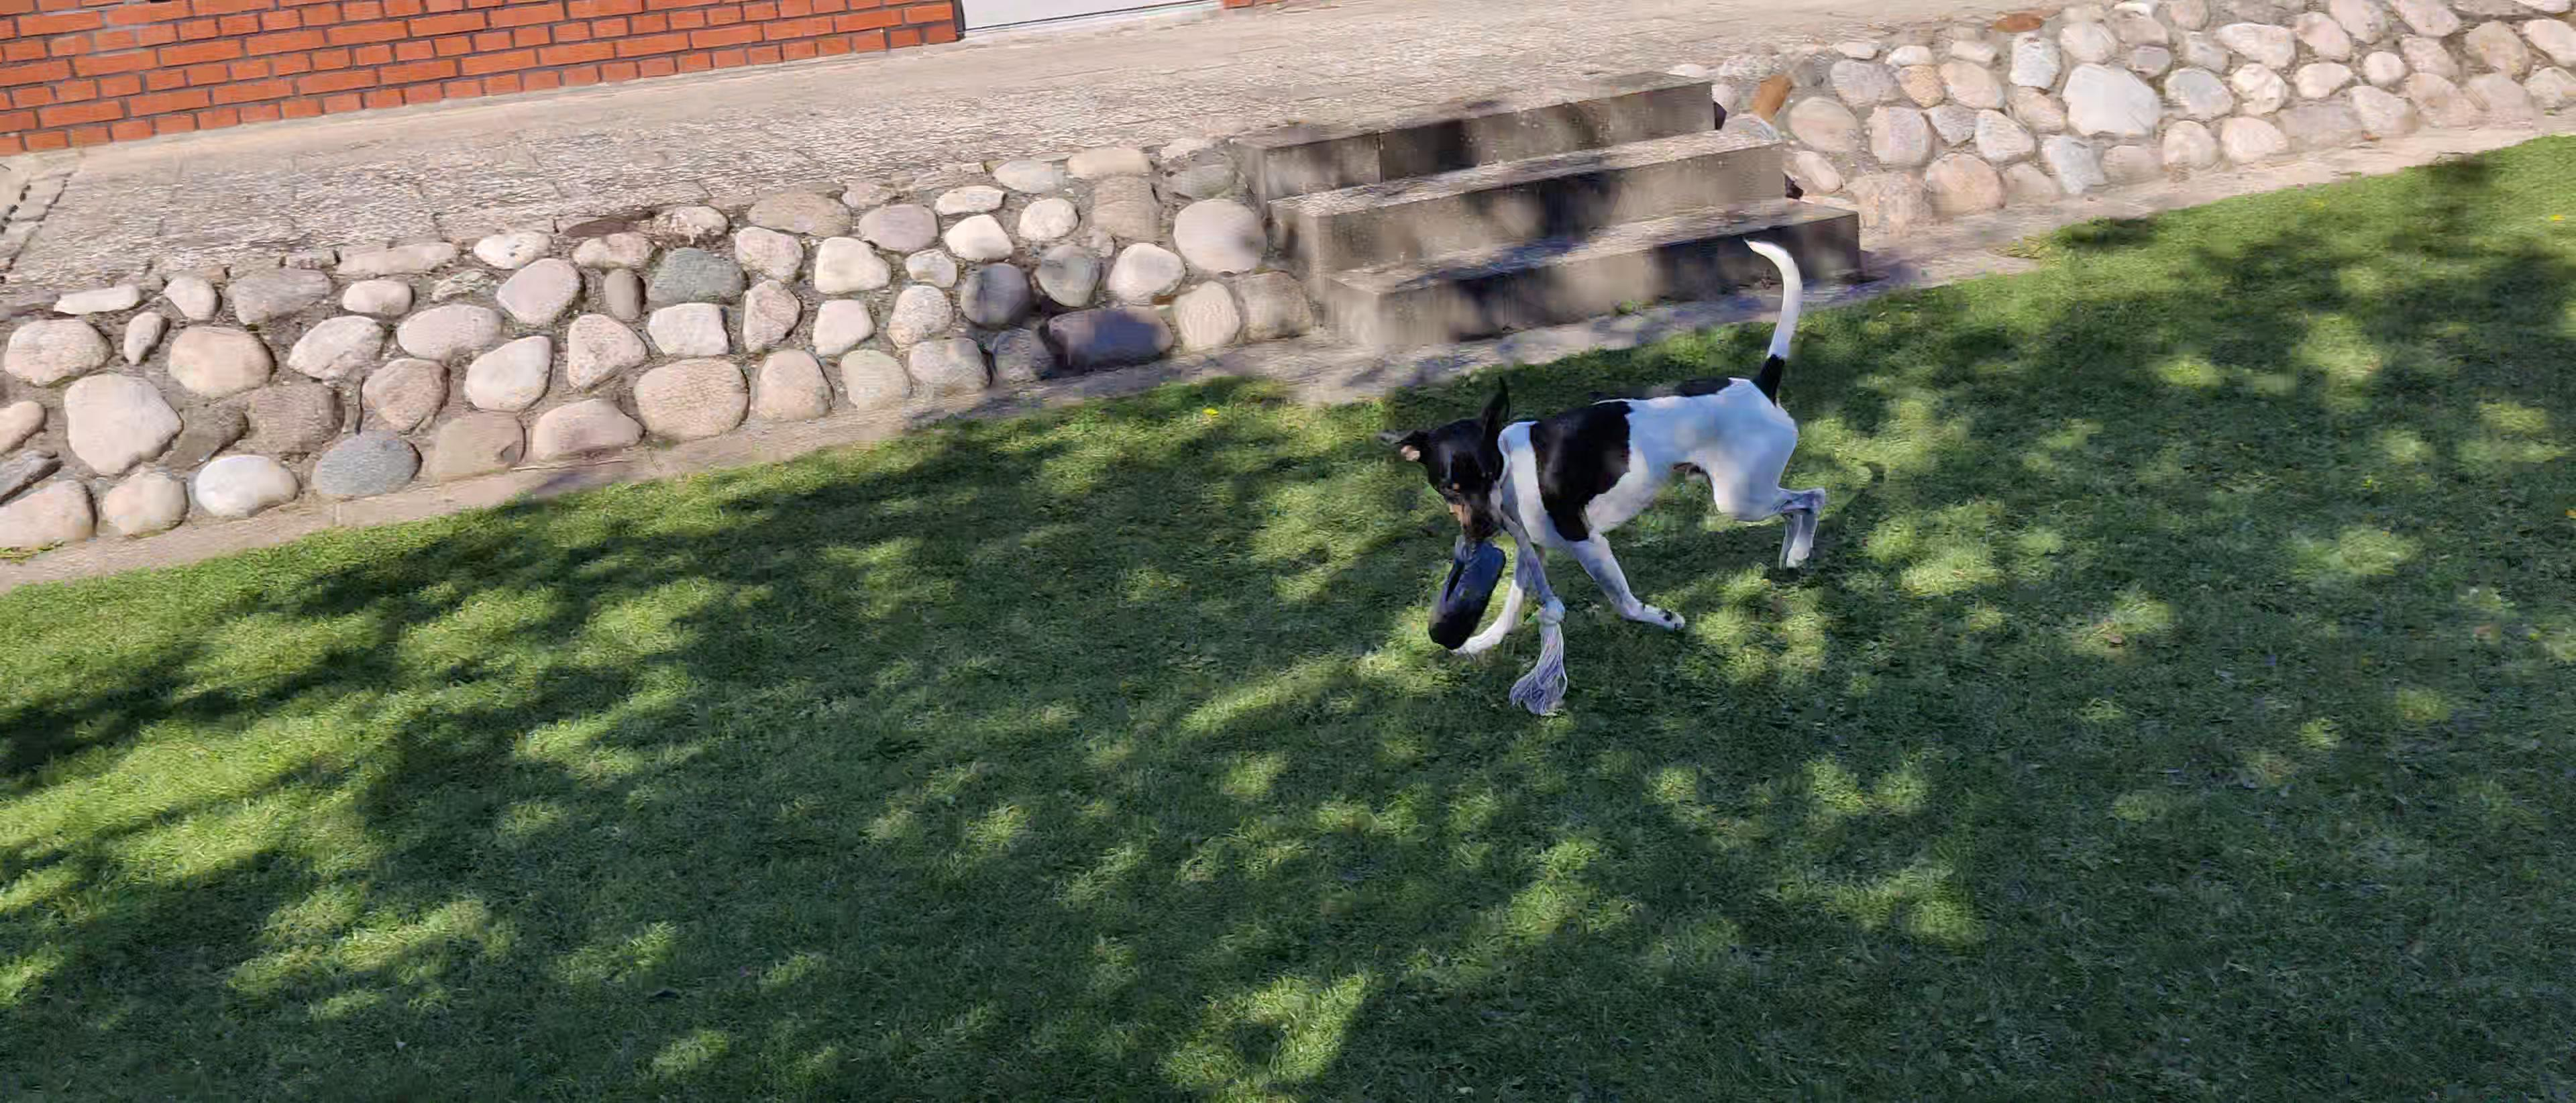Dog: (1364, 225, 1845, 666)
